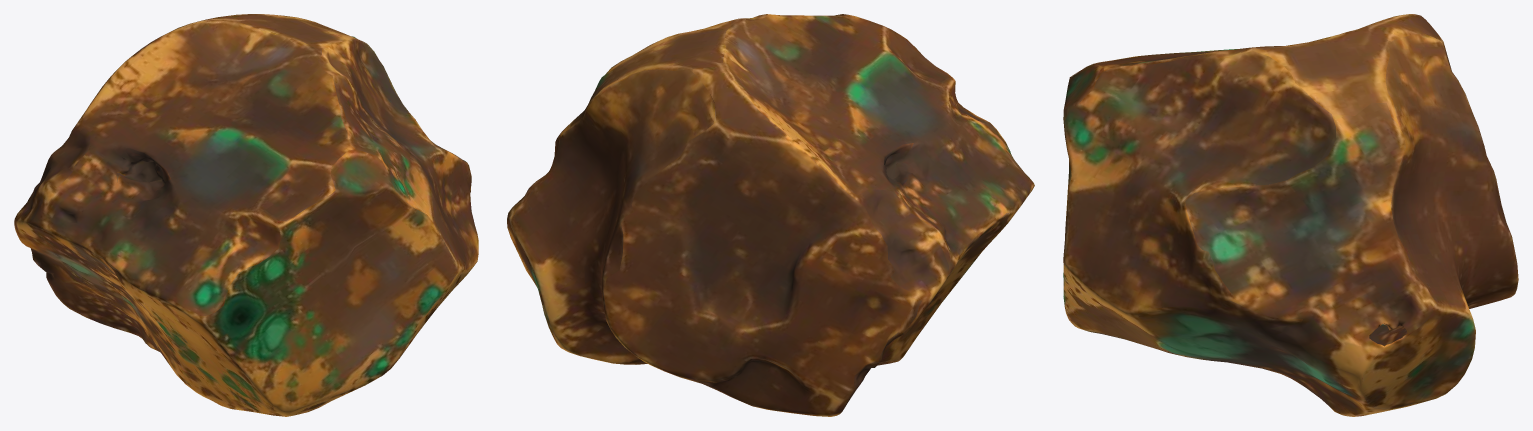
The model's file is pepita.glb.
3 views of the same model, side by side, from view 1: azimuth 30°, elevation 25°; view 2: azimuth 150°, elevation 25°; view 3: azimuth 270°, elevation 25° (orthographic). The views are drawn at different scales.
Parts seen in each view (by area): view 1: geometry_0; view 2: geometry_0; view 3: geometry_0.
Part boxes in pixels (bbox=[...]): geometry_0: bbox=[14, 14, 478, 416]; geometry_0: bbox=[507, 14, 1034, 416]; geometry_0: bbox=[1063, 14, 1518, 416].
Size of the model in its own units: 0.3 by 0.22 by 0.2601.
Materials: 1 (1 with a texture image).
